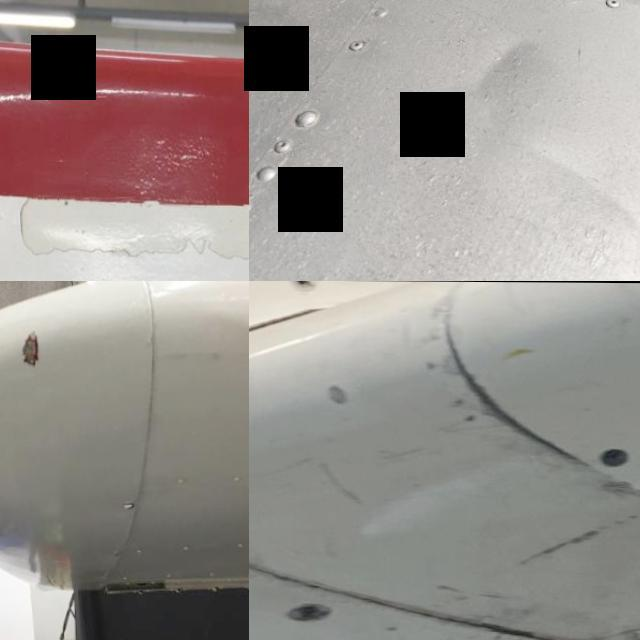Crack: (10, 172, 249, 281), (7, 302, 48, 389)
Dent: (504, 127, 640, 259), (442, 4, 560, 120)
Missing_Fastener: (275, 600, 332, 628), (594, 447, 640, 474), (283, 281, 321, 288)
